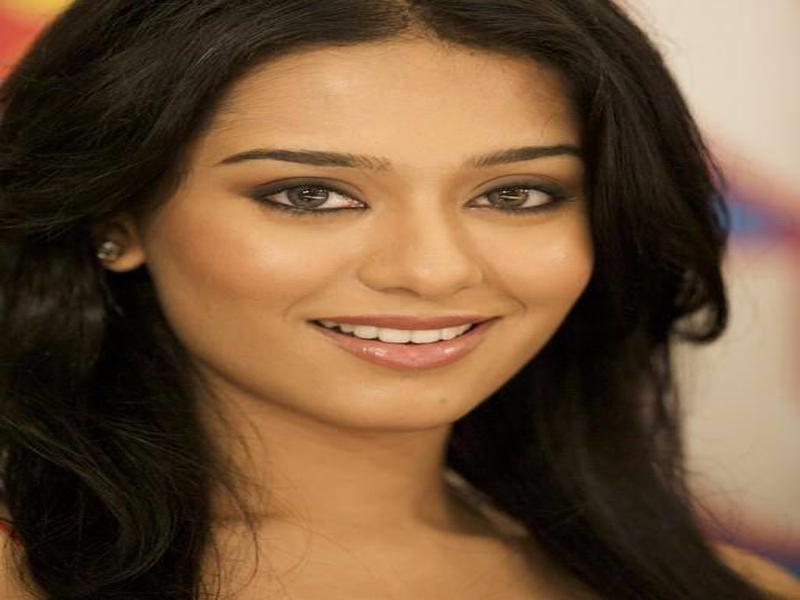without_mask: (146, 36, 600, 434)
